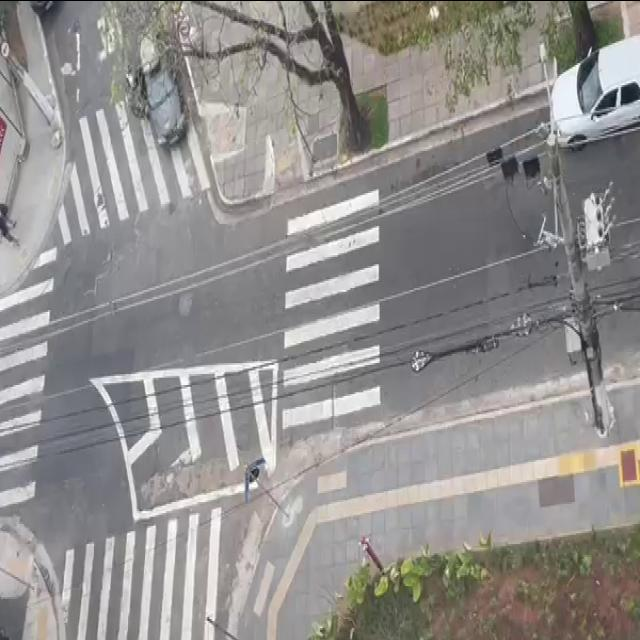car: (542, 19, 640, 150), (136, 21, 196, 153)
